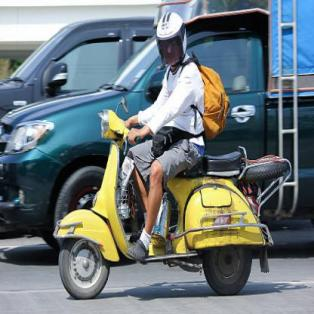Motocicleta: (51, 103, 267, 296)
